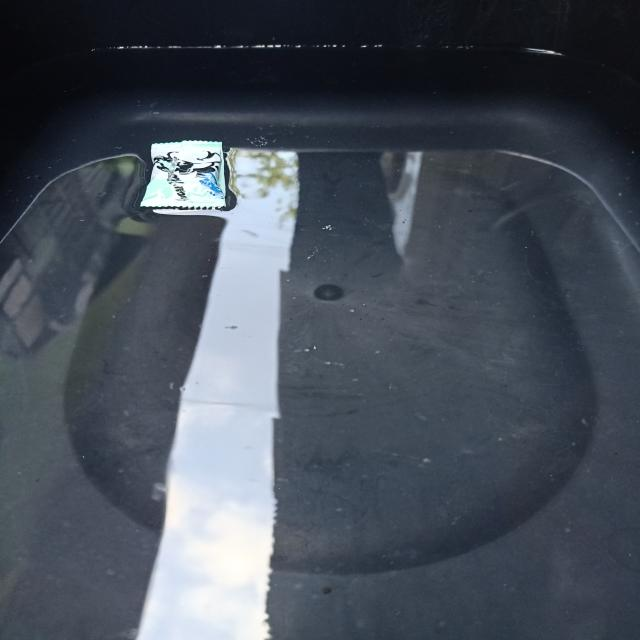Plastic Wrapper: (140, 141, 226, 212)
